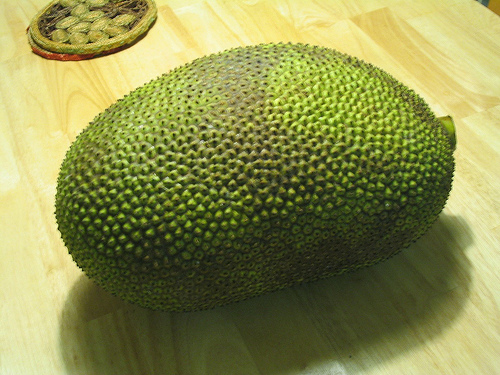jackfruit: (51, 39, 459, 314)
